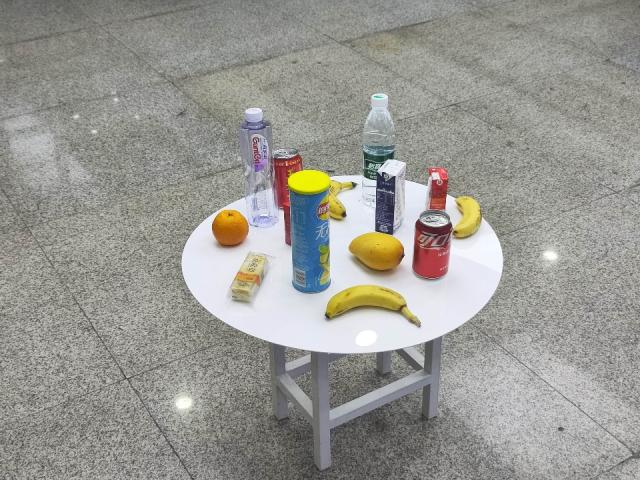Canned_drinks: (408, 211, 459, 285)
bottle: (238, 108, 284, 226), (362, 93, 380, 206)
cylinder: (288, 168, 331, 294)
